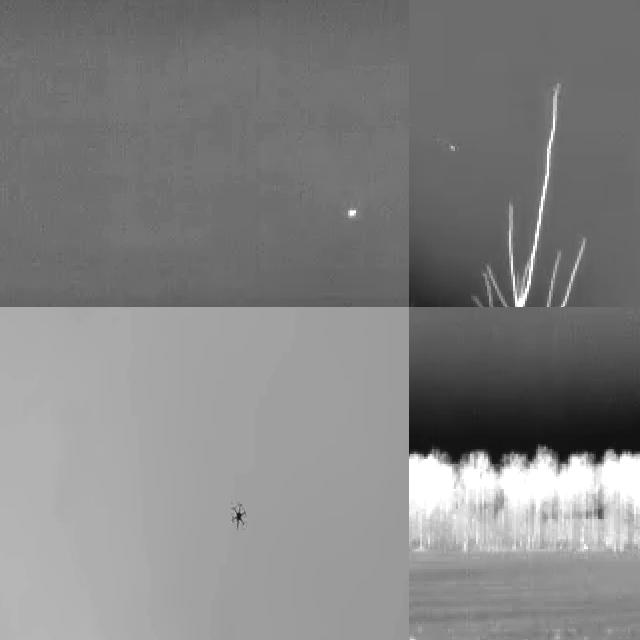0: (442, 137, 470, 167)
1: (342, 203, 370, 231)
drone: (227, 499, 250, 534)
